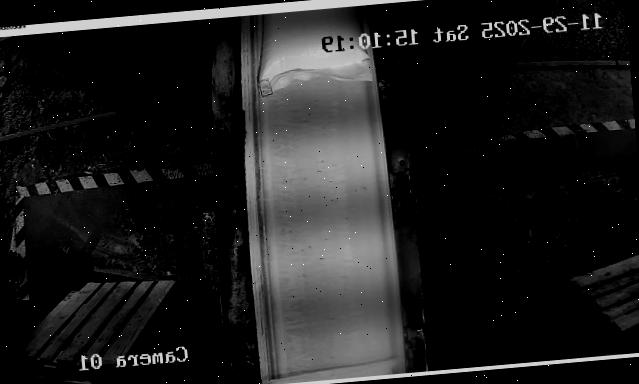bag: (251, 6, 370, 98)
